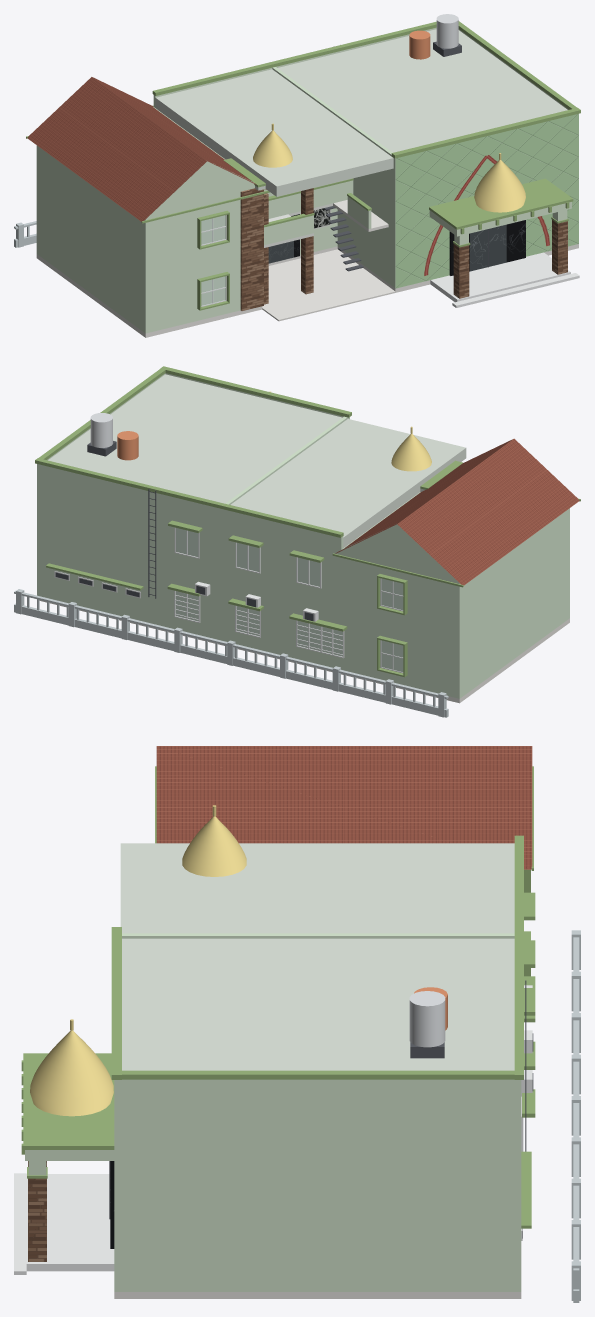
Rendered from gedung_perhotelan_2lantai.glb.
3 renders of one model, top to bottom at view 1: azimuth 30°, elevation 25°; view 2: azimuth 150°, elevation 25°; view 3: azimuth 270°, elevation 25°, orthographic. The views are drawn at different scales.
Parts seen in each view (by area): view 1: Dinding_Hijau_Pistachio, Atap_Dak_Beton_Utama, Fasad_Kubah_Diamond_Arch, Atap_Pelana_Sayap_Kiri, Aksen_Hijau_Olive_Dan_BoxJendela, Lantai_Keramik_Krem, Pilar_Batu_Alam_Coklat, Kusen_Putih_Tangga_Keramik_AC, Kubah_Emas_Utama_Dan_Menara, Marmer_Hitam_Lobi, Kaca_Jendela_Dan_Pintu, Besi_Tangga_Luar_Dan_Atap (+3 smaller); view 2: Dinding_Hijau_Pistachio, Atap_Dak_Beton_Utama, Atap_Pelana_Sayap_Kiri, Pagar_Baluster_Belakang, Aksen_Hijau_Olive_Dan_BoxJendela, Kaca_Jendela_Dan_Pintu, Kusen_Putih_Tangga_Keramik_AC, Besi_Tangga_Luar_Dan_Atap, Kubah_Emas_Utama_Dan_Menara, Lantai_Keramik_Krem, Toren_Air_Stainless_Atap, Toren_Air_Oranye_Atap; view 3: Dinding_Hijau_Pistachio, Atap_Dak_Beton_Utama, Atap_Pelana_Sayap_Kiri, Aksen_Hijau_Olive_Dan_BoxJendela, Kusen_Putih_Tangga_Keramik_AC, Kubah_Emas_Utama_Dan_Menara, Pagar_Baluster_Belakang, Lantai_Keramik_Krem, Toren_Air_Stainless_Atap, Pilar_Batu_Alam_Coklat, Besi_Tangga_Luar_Dan_Atap.
Boxes of the visible parts, <box> form: Dinding_Hijau_Pistachio: <box>36,27,571,333</box>; Atap_Dak_Beton_Utama: <box>155,29,567,196</box>; Fasad_Kubah_Diamond_Arch: <box>395,113,578,288</box>; Atap_Pelana_Sayap_Kiri: <box>27,77,266,221</box>; Aksen_Hijau_Olive_Dan_BoxJendela: <box>26,21,580,310</box>; Lantai_Keramik_Krem: <box>36,200,578,337</box>; Pilar_Batu_Alam_Coklat: <box>240,188,567,310</box>; Kusen_Putih_Tangga_Keramik_AC: <box>201,215,579,307</box>; Kubah_Emas_Utama_Dan_Menara: <box>253,123,525,212</box>; Marmer_Hitam_Lobi: <box>268,214,525,275</box>; Kaca_Jendela_Dan_Pintu: <box>201,215,506,305</box>; Besi_Tangga_Luar_Dan_Atap: <box>323,41,488,271</box>; Dinding_Hijau_Pistachio: <box>37,373,569,698</box>; Atap_Dak_Beton_Utama: <box>48,374,466,547</box>; Atap_Pelana_Sayap_Kiri: <box>335,438,579,585</box>; Pagar_Baluster_Belakang: <box>14,589,448,717</box>; Aksen_Hijau_Olive_Dan_BoxJendela: <box>35,366,580,677</box>; Kaca_Jendela_Dan_Pintu: <box>176,528,402,671</box>; Kusen_Putih_Tangga_Keramik_AC: <box>54,527,403,673</box>; Besi_Tangga_Luar_Dan_Atap: <box>55,441,313,621</box>; Kubah_Emas_Utama_Dan_Menara: <box>269,391,431,471</box>; Lantai_Keramik_Krem: <box>39,600,569,703</box>; Toren_Air_Stainless_Atap: <box>90,413,112,447</box>; Toren_Air_Oranye_Atap: <box>117,431,138,460</box>; Dinding_Hijau_Pistachio: <box>25,933,521,1291</box>; Atap_Dak_Beton_Utama: <box>120,843,514,1070</box>; Atap_Pelana_Sayap_Kiri: <box>156,746,532,869</box>; Aksen_Hijau_Olive_Dan_BoxJendela: <box>21,766,535,1228</box>; Kusen_Putih_Tangga_Keramik_AC: <box>14,985,532,1274</box>; Kubah_Emas_Utama_Dan_Menara: <box>30,805,246,1116</box>; Pagar_Baluster_Belakang: <box>571,930,580,1302</box>; Lantai_Keramik_Krem: <box>114,1292,521,1298</box>; Toren_Air_Stainless_Atap: <box>409,991,445,1047</box>; Pilar_Batu_Alam_Coklat: <box>28,1161,46,1261</box>; Besi_Tangga_Luar_Dan_Atap: <box>109,980,533,1238</box>.
Bounding box in the file's own units: 25.72 × 9.67 × 18.1.
20 materials, 5 textured.
